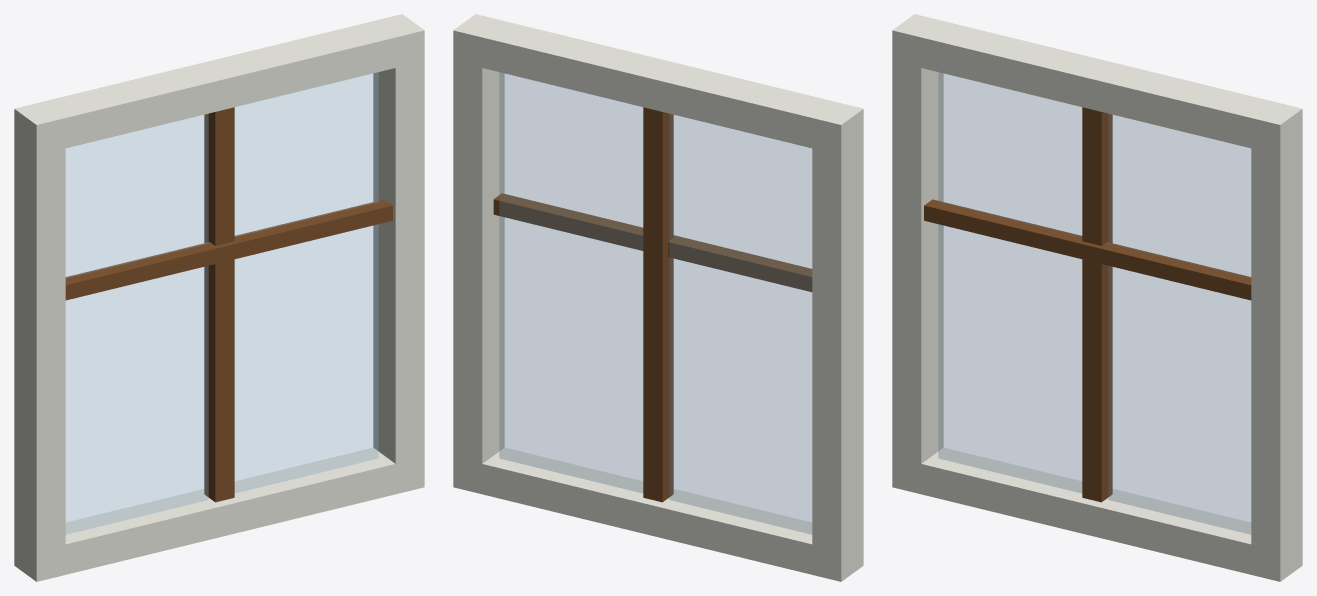
Rendered from window.glb.
The picture shows the model from 3 angles, left to right: view 1: azimuth 30°, elevation 25°; view 2: azimuth 150°, elevation 25°; view 3: azimuth 330°, elevation 25°; orthographic projection.
Parts seen in each view (by area): view 1: Glass_PaneRight, Glass_PaneLeft, Fixed_FrameTop, Fixed_FrameLeft, Fixed_FrameRight, Fixed_FrameBottom, Wood_Mullion, Wood_Bar; view 2: Glass_PaneRight, Glass_PaneLeft, Fixed_FrameTop, Fixed_FrameLeft, Fixed_FrameRight, Fixed_FrameBottom, Wood_Mullion, Wood_Bar; view 3: Glass_PaneLeft, Glass_PaneRight, Fixed_FrameTop, Fixed_FrameRight, Fixed_FrameLeft, Fixed_FrameBottom, Wood_Mullion, Wood_Bar.
Part boxes in pixels (x1,y1,x2,y2): Glass_PaneRight: [235, 72, 378, 493]; Glass_PaneLeft: [66, 114, 208, 534]; Fixed_FrameTop: [14, 14, 424, 155]; Fixed_FrameLeft: [14, 139, 65, 551]; Fixed_FrameRight: [373, 61, 424, 463]; Fixed_FrameBottom: [14, 447, 424, 581]; Wood_Mullion: [204, 107, 234, 502]; Wood_Bar: [65, 199, 392, 300]; Glass_PaneRight: [499, 72, 642, 493]; Glass_PaneLeft: [669, 114, 811, 534]; Fixed_FrameTop: [453, 14, 863, 155]; Fixed_FrameLeft: [812, 139, 863, 551]; Fixed_FrameRight: [453, 61, 504, 463]; Fixed_FrameBottom: [453, 447, 863, 581]; Wood_Mullion: [643, 107, 673, 502]; Wood_Bar: [493, 193, 812, 291]; Glass_PaneLeft: [938, 72, 1081, 493]; Glass_PaneRight: [1108, 114, 1250, 534]; Fixed_FrameTop: [892, 14, 1302, 155]; Fixed_FrameRight: [1251, 139, 1302, 551]; Fixed_FrameLeft: [892, 61, 943, 463]; Fixed_FrameBottom: [892, 447, 1302, 581]; Wood_Mullion: [1082, 107, 1112, 502]; Wood_Bar: [924, 199, 1251, 300].
Size of the model in its own units: 1.6 by 1.8 by 0.16.
